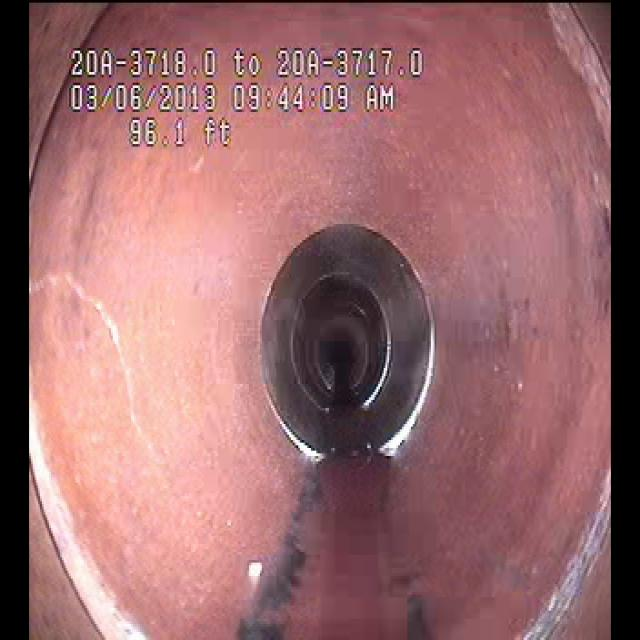Crack: (38, 233, 160, 494)
